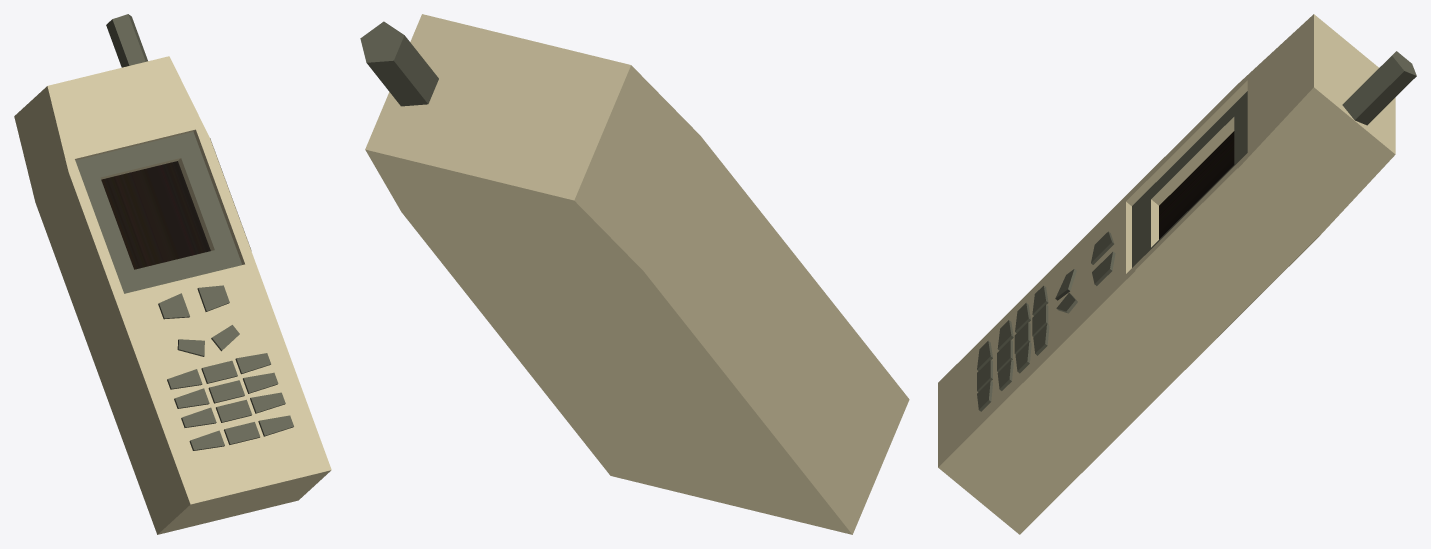
The model's file is phone1.fbx.
The picture shows the model from 3 angles, left to right: view 1: azimuth 30°, elevation 25°; view 2: azimuth 150°, elevation 25°; view 3: azimuth 270°, elevation 25°; orthographic projection. The views are drawn at different scales.
Parts seen in each view (by area): view 1: pCylinder2; view 2: pCylinder2; view 3: pCylinder2.
Boxes of the visible parts, left/top/right/bottom form: pCylinder2: left=14, top=14, right=331, bottom=534; pCylinder2: left=360, top=14, right=909, bottom=534; pCylinder2: left=938, top=14, right=1416, bottom=534.
Bounding box in the file's own units: 3.89 × 10.02 × 9.29.
